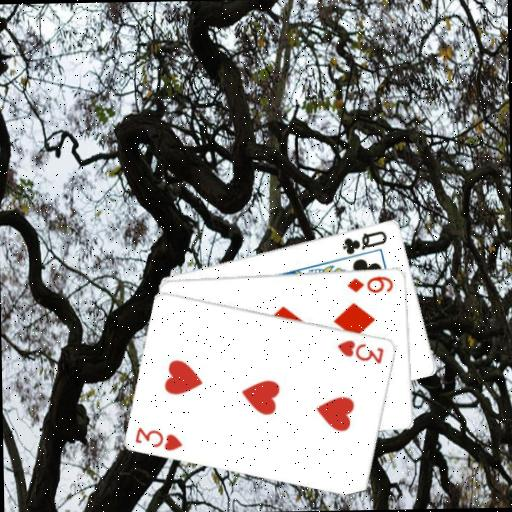3H: (133, 423, 185, 453), (335, 336, 386, 366)
6D: (345, 272, 396, 294)
QC: (339, 227, 389, 256)
